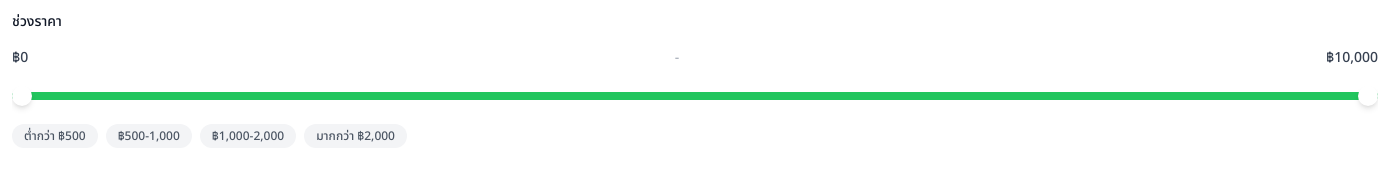
PriceFilter Component › quick preset button "฿500-1,000" works
Click the button "฿500-1,000". click: (149, 136)
box: [106,124,192,148]
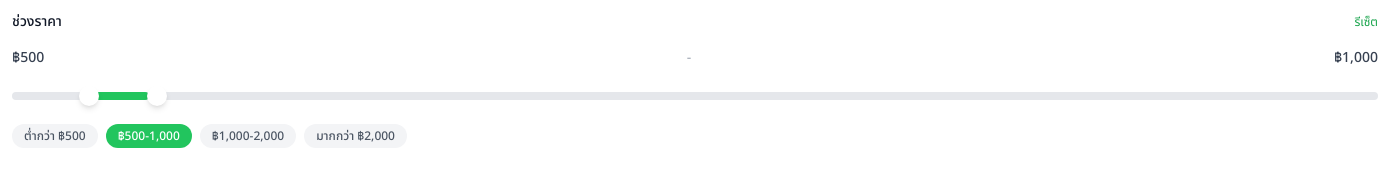
Now the text "฿500" is shown, box [12,48,44,68]
Now the text "฿1,000" is shown, box [1334,48,1378,68]
